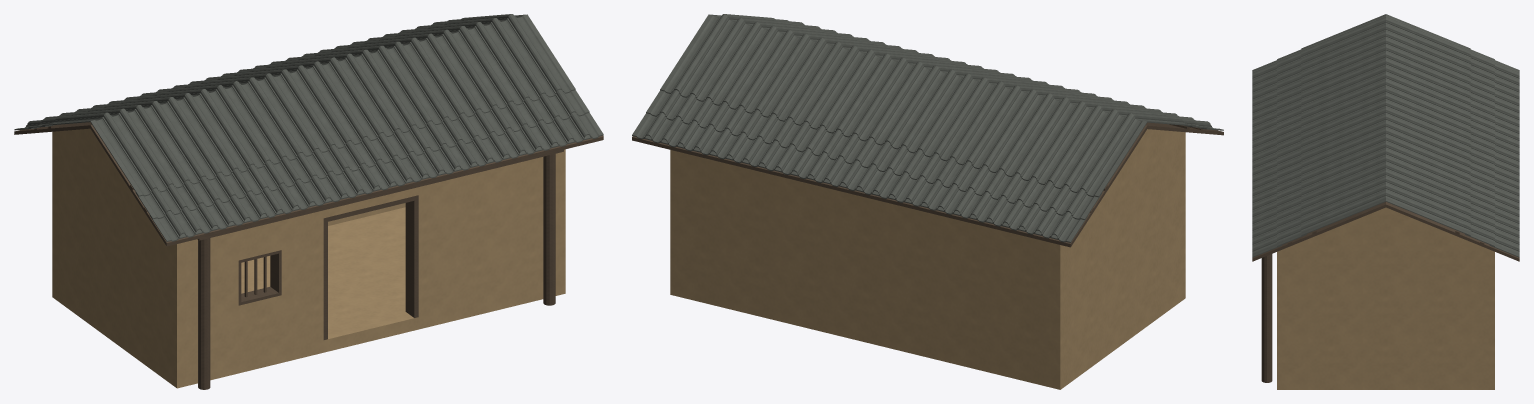
3 views of the same model, side by side, from view 1: azimuth 30°, elevation 25°; view 2: azimuth 150°, elevation 25°; view 3: azimuth 270°, elevation 25° (orthographic). The views are drawn at different scales.
Parts seen in each view (by area): view 1: H72_v1_1__LY_P01_earth, H72_v1_1__LY_P01_tile, H72_v1_1__LY_P01_timber; view 2: H72_v1_1__LY_P01_earth, H72_v1_1__LY_P01_tile, H72_v1_1__LY_P01_timber; view 3: H72_v1_1__LY_P01_tile, H72_v1_1__LY_P01_earth, H72_v1_1__LY_P01_timber.
Part boxes in pixels (<box>): H72_v1_1__LY_P01_earth: <box>52,128,565,388</box>; H72_v1_1__LY_P01_tile: <box>14,14,603,241</box>; H72_v1_1__LY_P01_timber: <box>14,122,603,389</box>; H72_v1_1__LY_P01_earth: <box>670,129,1185,389</box>; H72_v1_1__LY_P01_tile: <box>632,14,1223,242</box>; H72_v1_1__LY_P01_timber: <box>632,122,1223,247</box>; H72_v1_1__LY_P01_tile: <box>1252,14,1519,257</box>; H72_v1_1__LY_P01_earth: <box>1277,207,1494,389</box>; H72_v1_1__LY_P01_timber: <box>1252,202,1519,382</box>.
Bounding box in the file's own units: 8.1 × 4.11 × 4.9.
3 materials, 3 textured.
